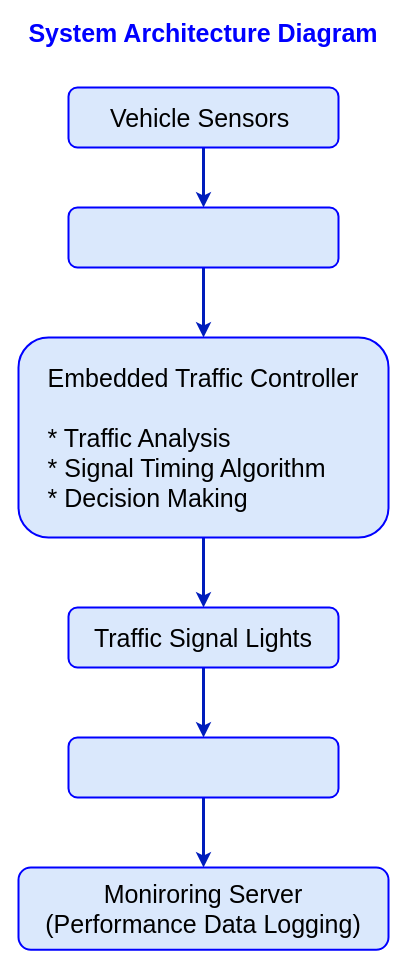
The diagram is 406 pixels wide and 968 high, and some of its shapes have lost their labels. Each missing label, with the centre of its shape:
Traffic Data Collection: the point at 203,237
Vehicle Flow: the point at 203,767
